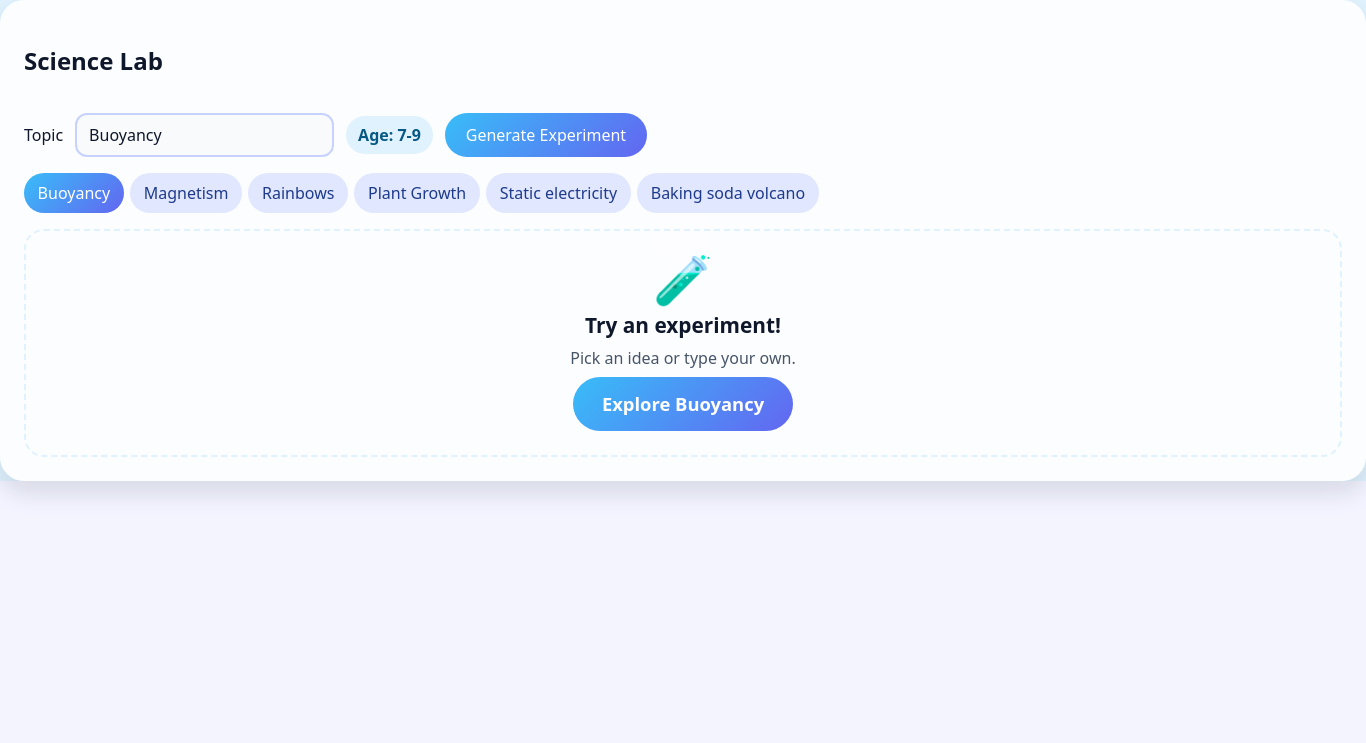
Test: ScienceLab free topics, supervision, and observations › shows the grown-up check before the steps
This screenshot has width=1366, height=743.
Click the button "Generate Experiment": (546, 135) [445,113,647,157]
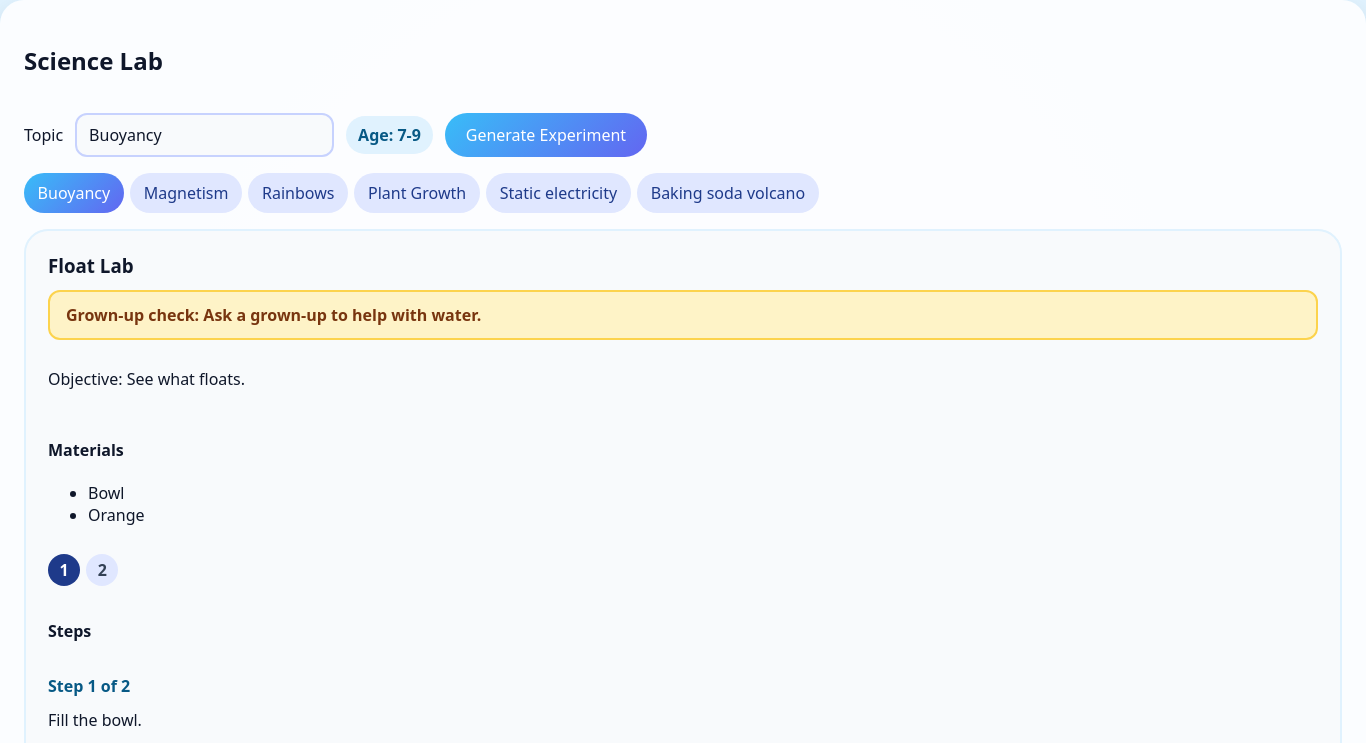
Check: the heading "Float Lab" is shown, box [48,253,134,278]
Check: the element with class "supervision" shows "Ask a grown-up to help with water.", box [203,304,481,326]
